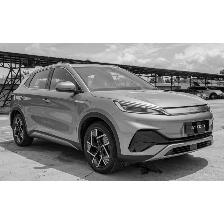EV: (11, 64, 216, 176)
